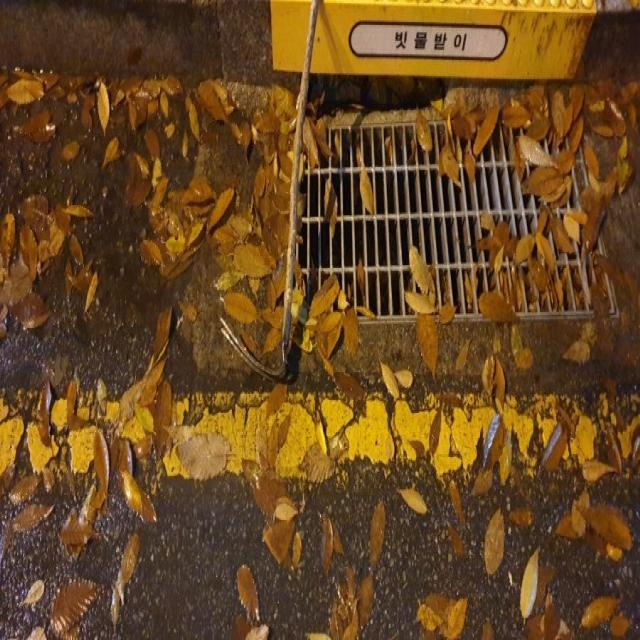drain_area: (296, 123, 540, 317)
drain_full: (279, 112, 614, 322)
